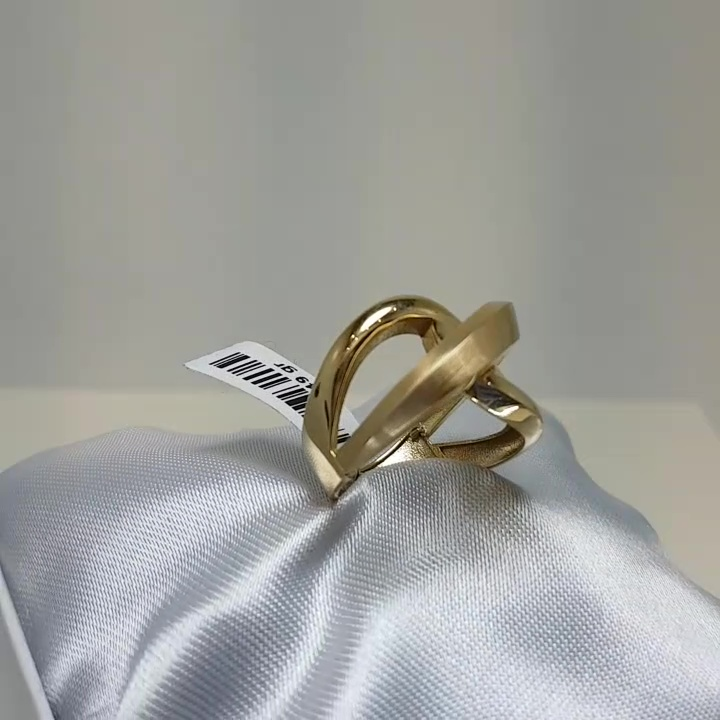Ring 3: (288, 284, 547, 527)
